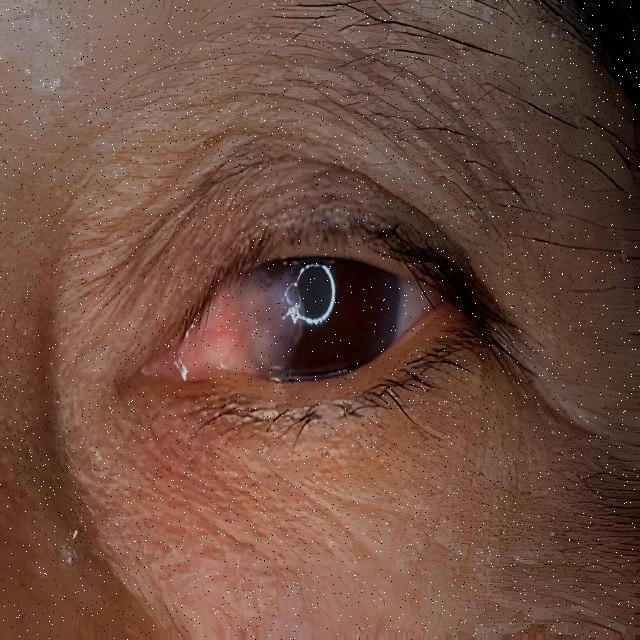Pterygium: (192, 269, 328, 386)
